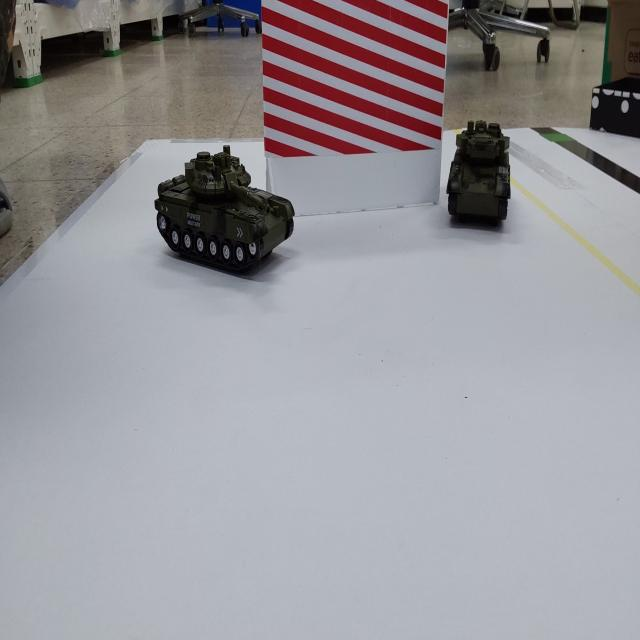enem_tank: (155, 145, 295, 274), (446, 121, 510, 226)
